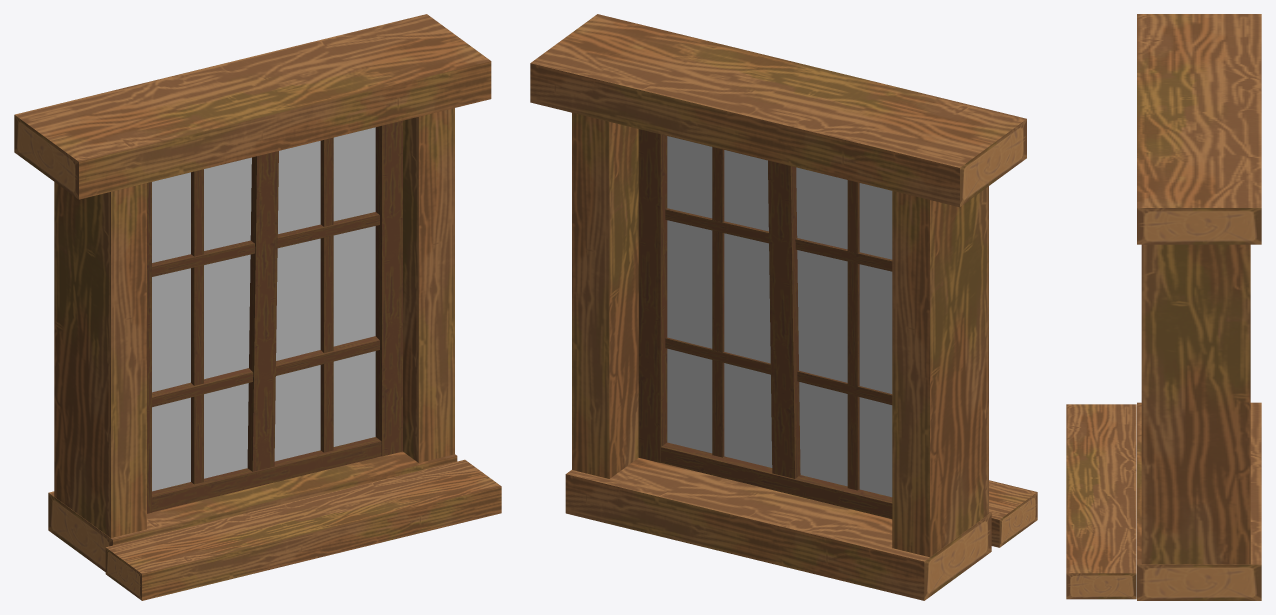
3 renders of one model, left to right at view 1: azimuth 30°, elevation 25°; view 2: azimuth 150°, elevation 25°; view 3: azimuth 270°, elevation 25°, orthographic. The views are drawn at different scales.
Parts seen in each view (by area): view 1: 119518c625d3ef5be66e97c63a75e19d3ec20a2d4d9730cfa9474bcab7d1; view 2: 119518c625d3ef5be66e97c63a75e19d3ec20a2d4d9730cfa9474bcab7d1; view 3: 119518c625d3ef5be66e97c63a75e19d3ec20a2d4d9730cfa9474bcab7d1.
Part boxes in pixels (x1=…): 119518c625d3ef5be66e97c63a75e19d3ec20a2d4d9730cfa9474bcab7d1: x1=14, y1=14, x2=501, y2=600; 119518c625d3ef5be66e97c63a75e19d3ec20a2d4d9730cfa9474bcab7d1: x1=530, y1=14, x2=1037, y2=600; 119518c625d3ef5be66e97c63a75e19d3ec20a2d4d9730cfa9474bcab7d1: x1=1066, y1=14, x2=1261, y2=600.
Bounding box in the file's own units: 1.61 × 1.58 × 0.6834.
Materials: 2 (2 with a texture image).
